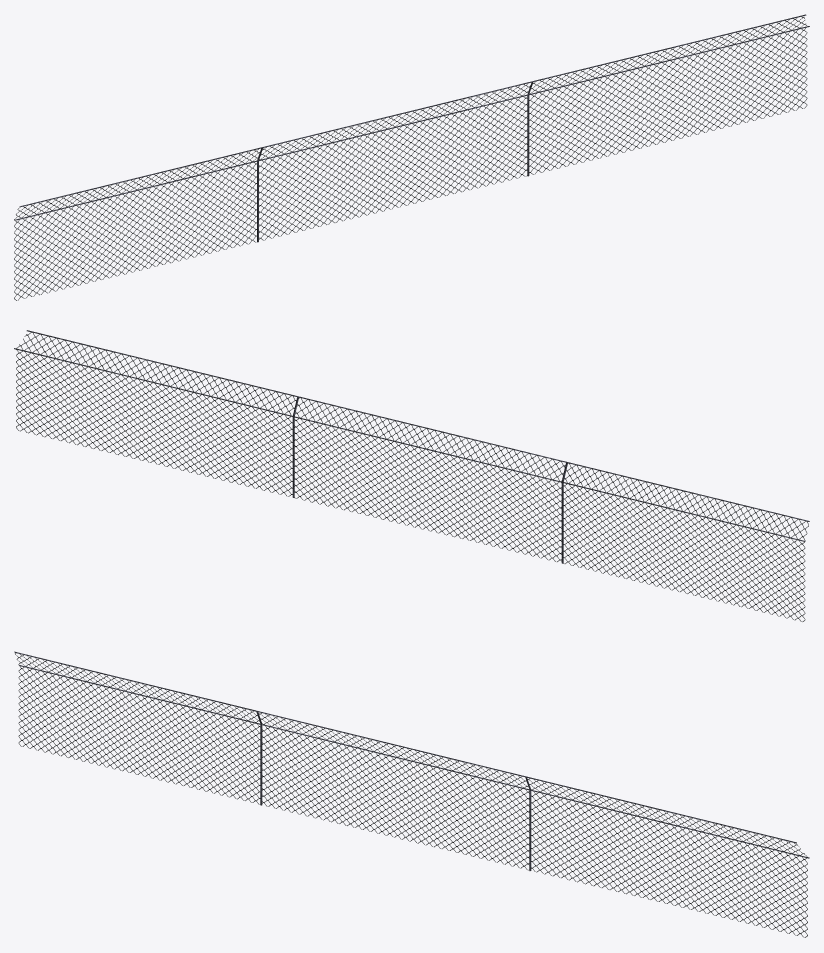
Rendered from M10_Z1_FootBridge03B.glb.
3 renders of one model, top to bottom at view 1: azimuth 30°, elevation 25°; view 2: azimuth 150°, elevation 25°; view 3: azimuth 330°, elevation 25°, orthographic.
Parts seen in each view (by area): view 1: M10_Z1_FOOTBRIDGE03B; view 2: M10_Z1_FOOTBRIDGE03B; view 3: M10_Z1_FOOTBRIDGE03B.
Part boxes in pixels (bbox=[...]): M10_Z1_FOOTBRIDGE03B: bbox=[14, 14, 809, 300]; M10_Z1_FOOTBRIDGE03B: bbox=[14, 330, 809, 621]; M10_Z1_FOOTBRIDGE03B: bbox=[14, 651, 809, 937].
Size of the model in its own units: 12.52 by 1.48 by 0.141.
Materials: 2 (2 with a texture image).
